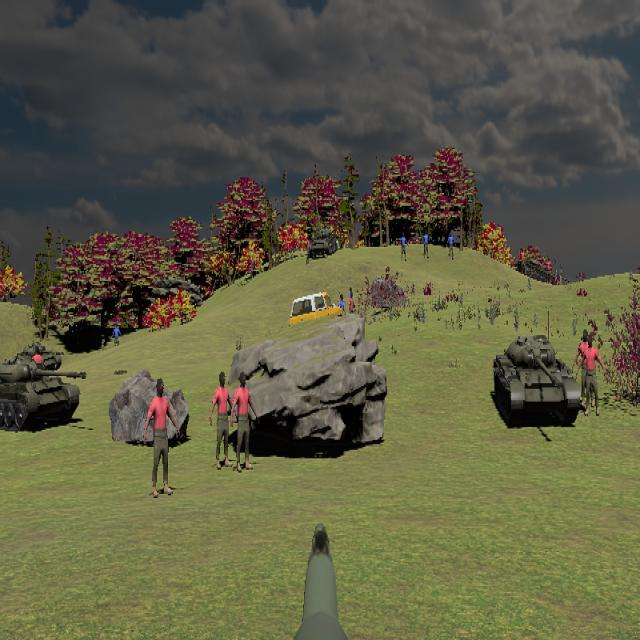Human: (143, 378, 179, 497), (231, 372, 259, 472), (209, 371, 236, 471), (577, 336, 606, 415), (578, 336, 606, 415)
Tank: (493, 335, 580, 426), (0, 357, 87, 432), (308, 226, 338, 259)
car: (289, 291, 347, 334)
